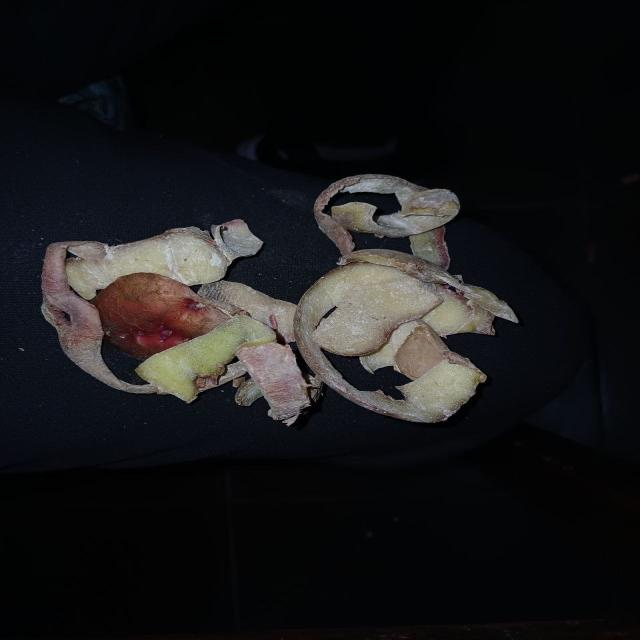organic: (45, 172, 521, 428)
